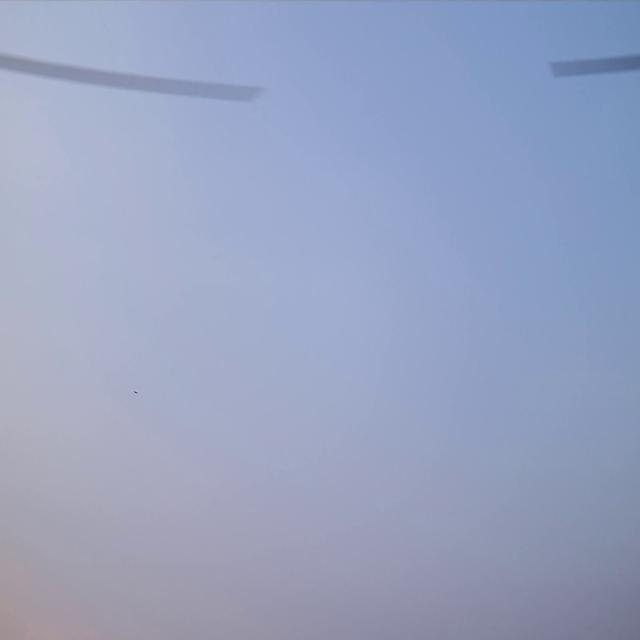UAV: (134, 390, 138, 394)
